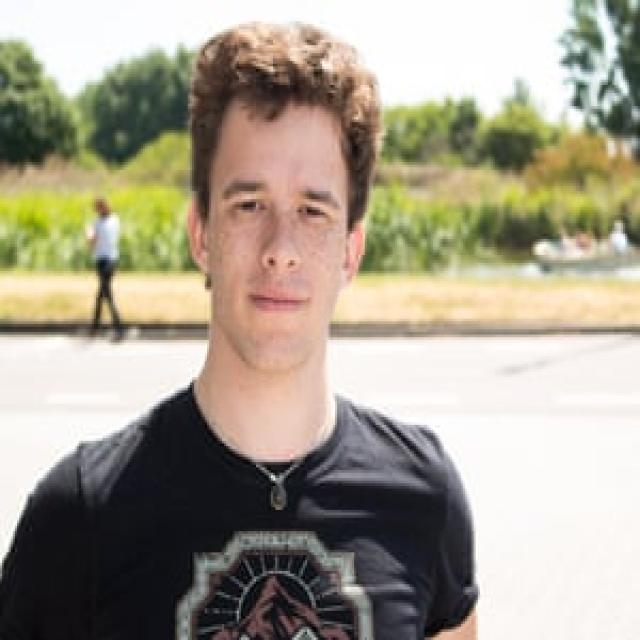human: (0, 8, 486, 640)
